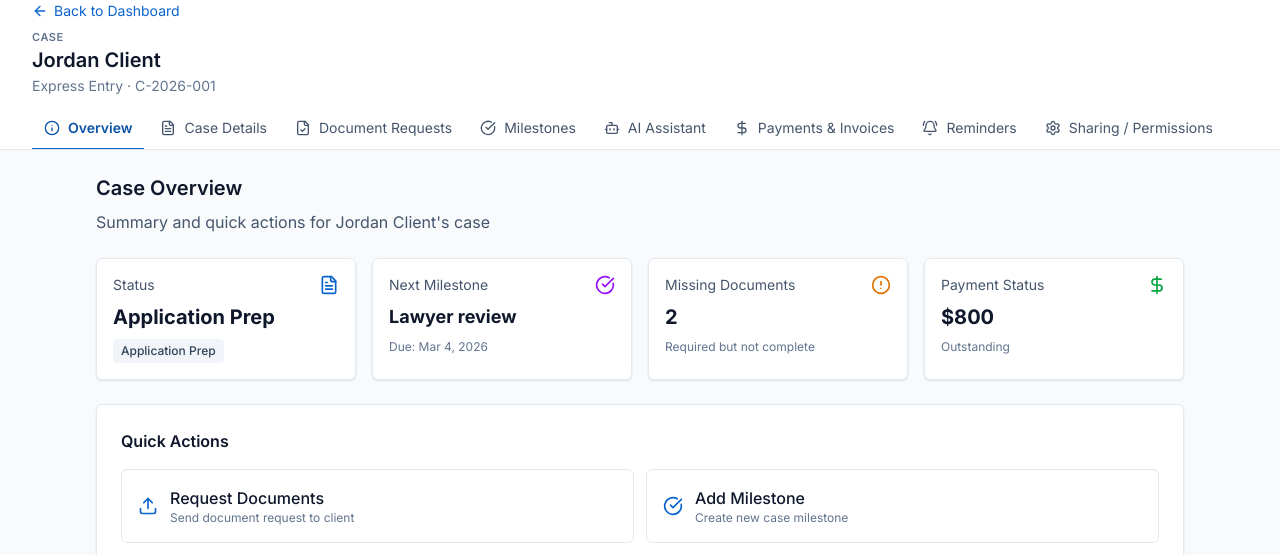
Test: CaseConfiguration case details › CT-CASECFG-08: reports a failed save
The width and height of the screenshot is (1280, 555).
Check: the heading "Case Overview" is shown, box [96,176,242,200]
Click the button "Case Details": (214, 128) [148,108,279,150]
(page scrolled)
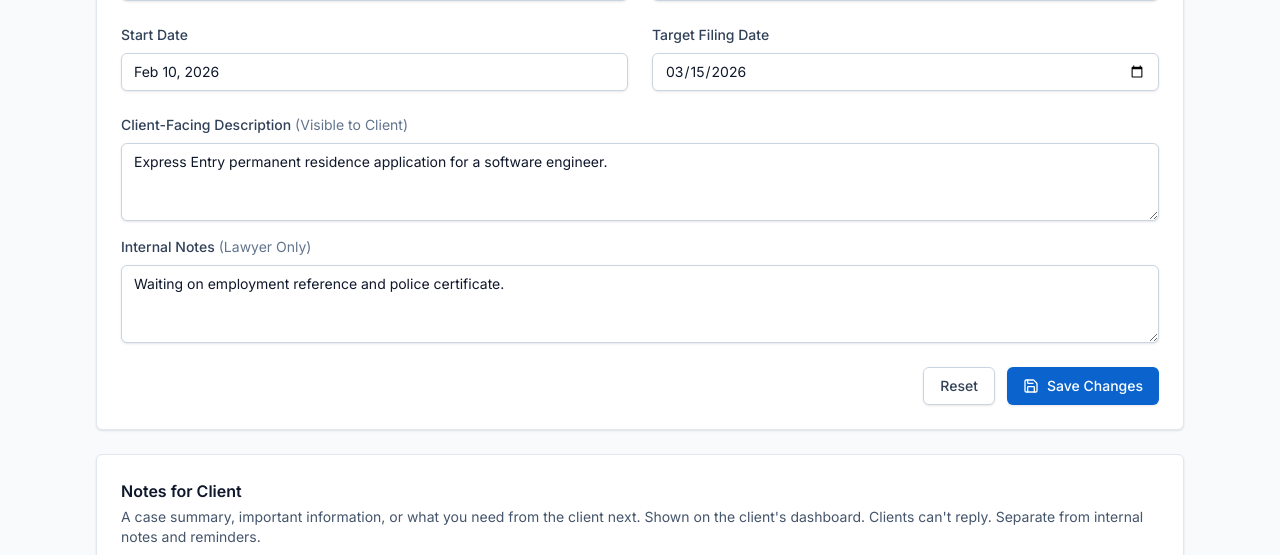
Click the button "Save Changes": (1083, 386) [1007,366,1159,404]
(page scrolled)
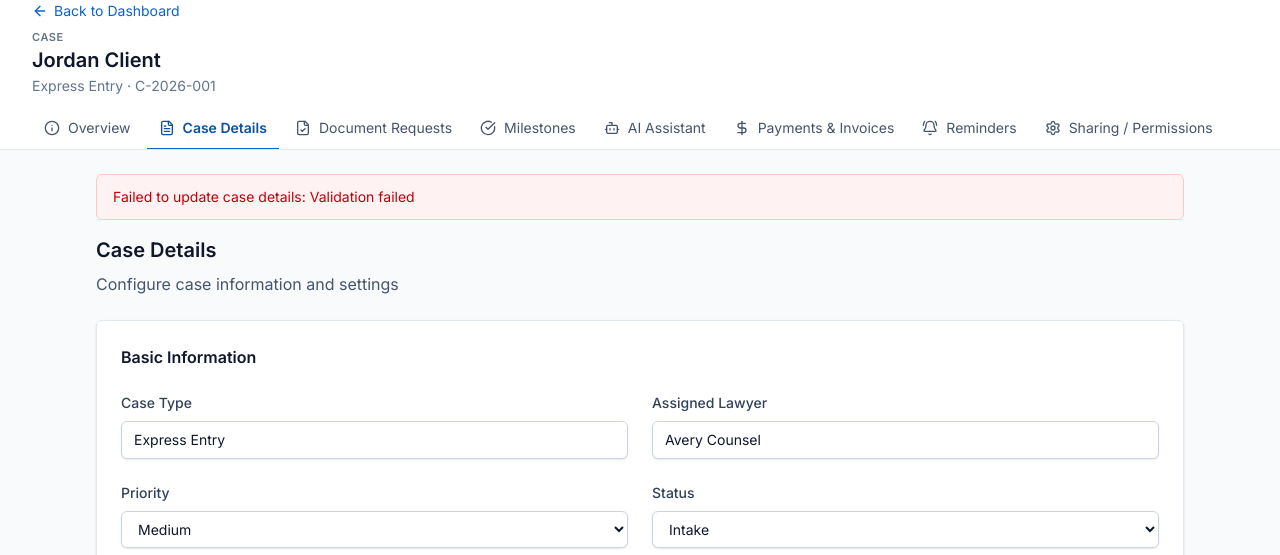
Check: the text "Failed to update case details: Validation failed" is shown, box [96,174,1184,220]
